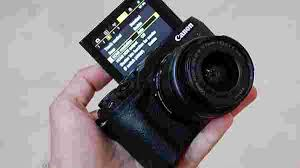camera: (91, 9, 255, 160)
